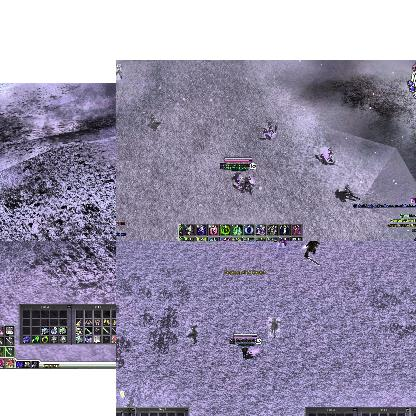caliana: (336, 185, 360, 203), (318, 148, 338, 166), (262, 122, 276, 140), (186, 323, 198, 343), (268, 317, 280, 337), (146, 114, 160, 130), (116, 64, 121, 79)
